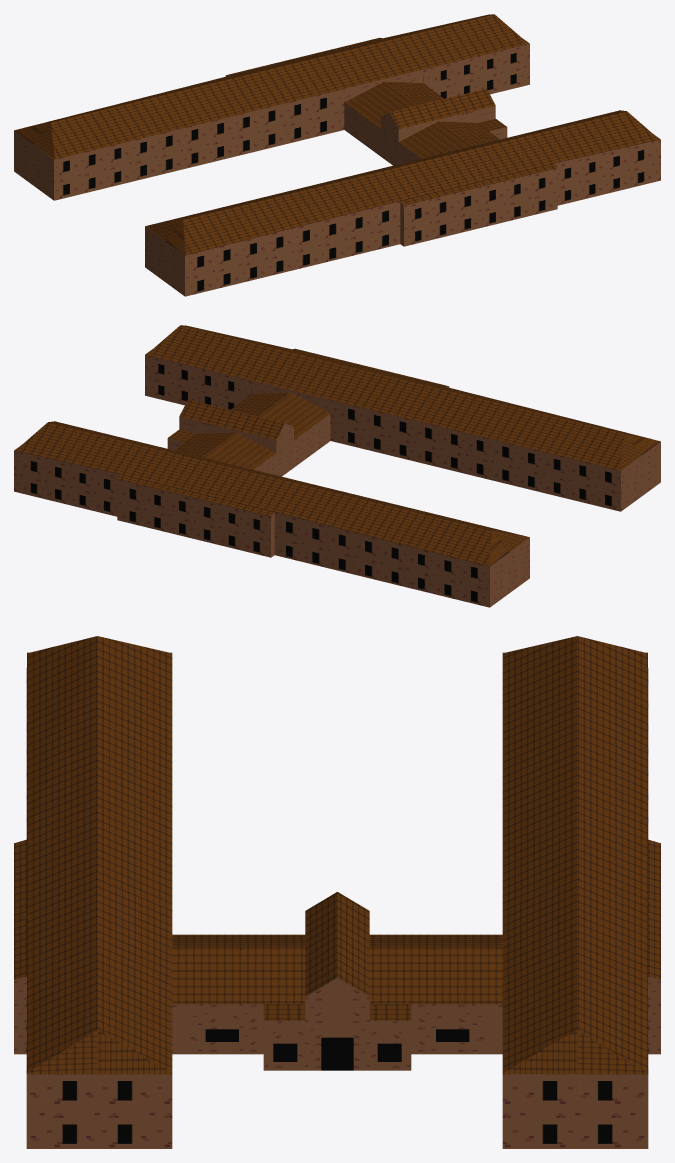
Rendered from mcchesney.obj.
3 views of the same model, one above another, from view 1: azimuth 30°, elevation 25°; view 2: azimuth 150°, elevation 25°; view 3: azimuth 270°, elevation 25° (orthographic). The views are drawn at different scales.
Parts seen in each view (by area): view 1: Cube, Cube.001; view 2: Cube.001, Cube; view 3: Cube.001, Cube.
Boxes of the visible parts, x1,y1,x2,y2 form: Cube: (145,88,660,296); Cube.001: (14,14,529,200); Cube.001: (14,399,529,607); Cube: (145,325,660,511); Cube.001: (337,636,660,1148); Cube: (14,636,337,1148).
Bounding box in the file's own units: 7.38 × 0.8695 × 4.78.
